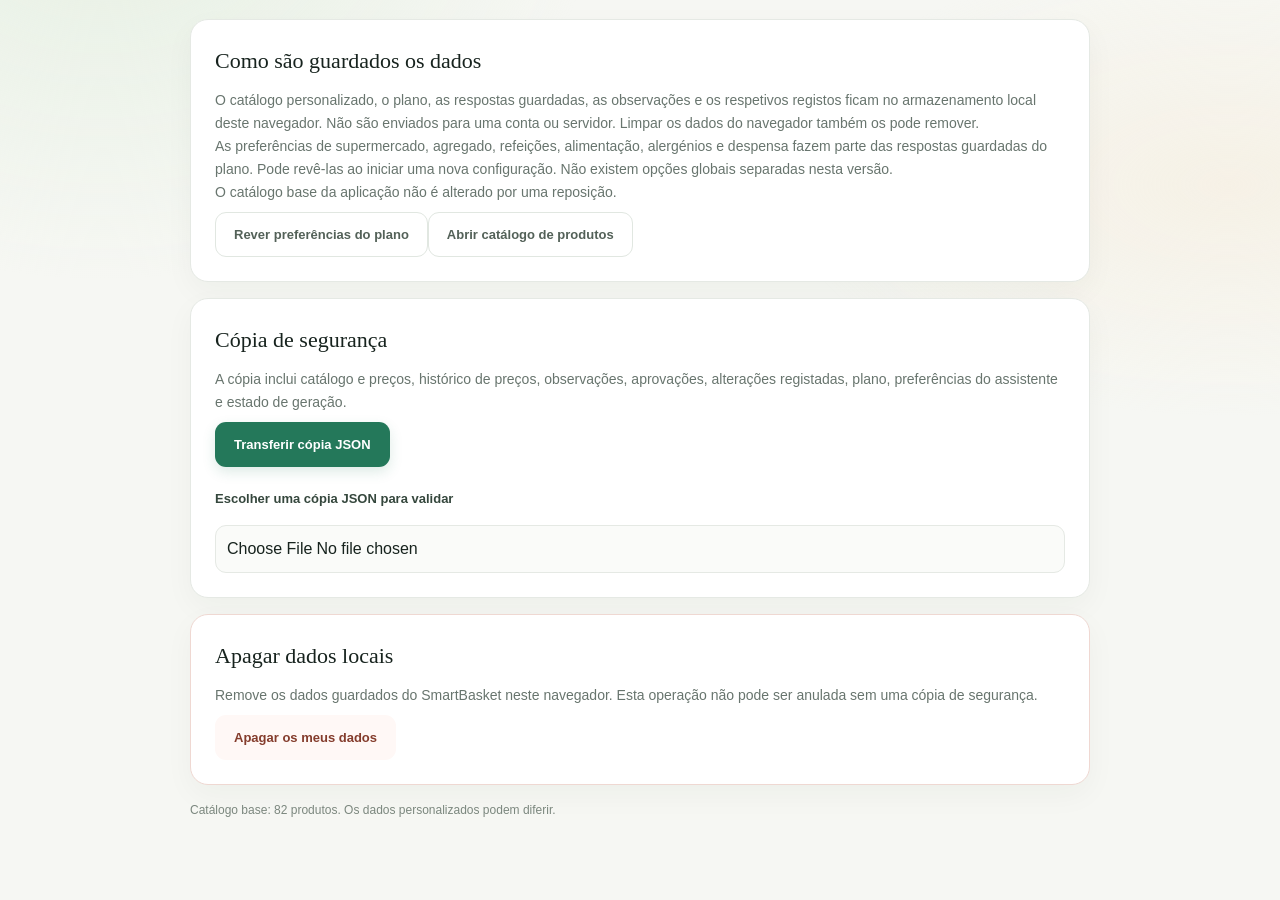
Test: settings data reset › clears local application data only after affirmative confirmation
(page scrolled)
Click the button "Apagar os meus dados" at [306, 737], box [215,715,396,760]
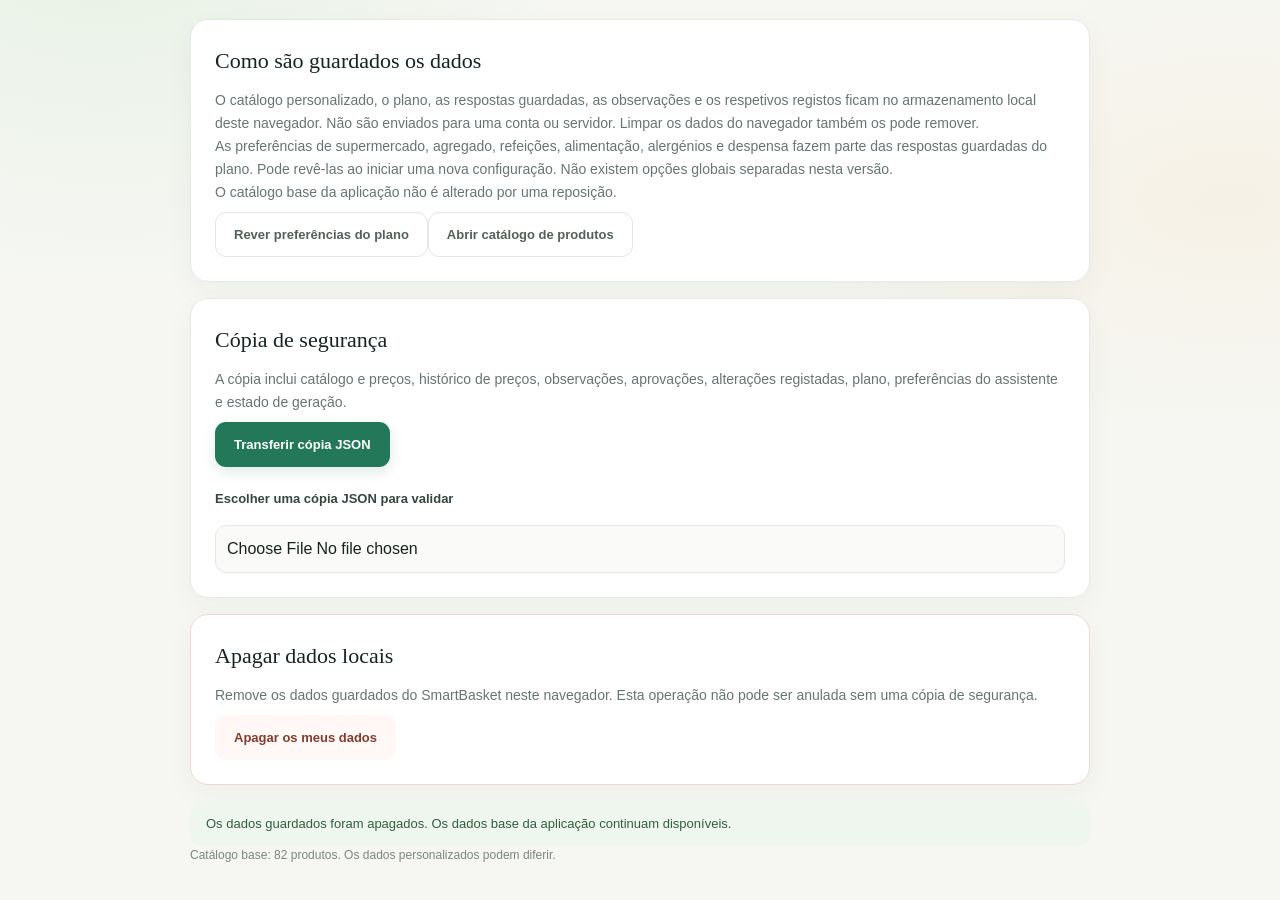
Now the message shows "foram apagados", box [206,816,731,831]
